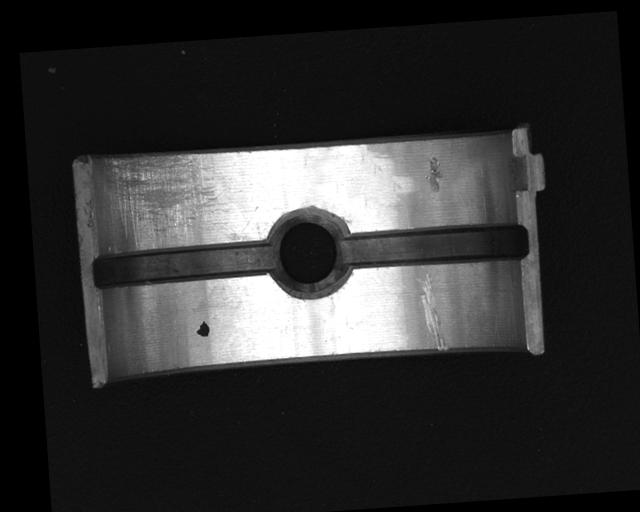blot: (194, 320, 211, 339)
bruise: (422, 155, 445, 194)
gap: (338, 219, 529, 275), (90, 239, 280, 289)
hole: (264, 206, 352, 300)
nick: (417, 273, 448, 352)
scratch: (95, 148, 228, 250)
